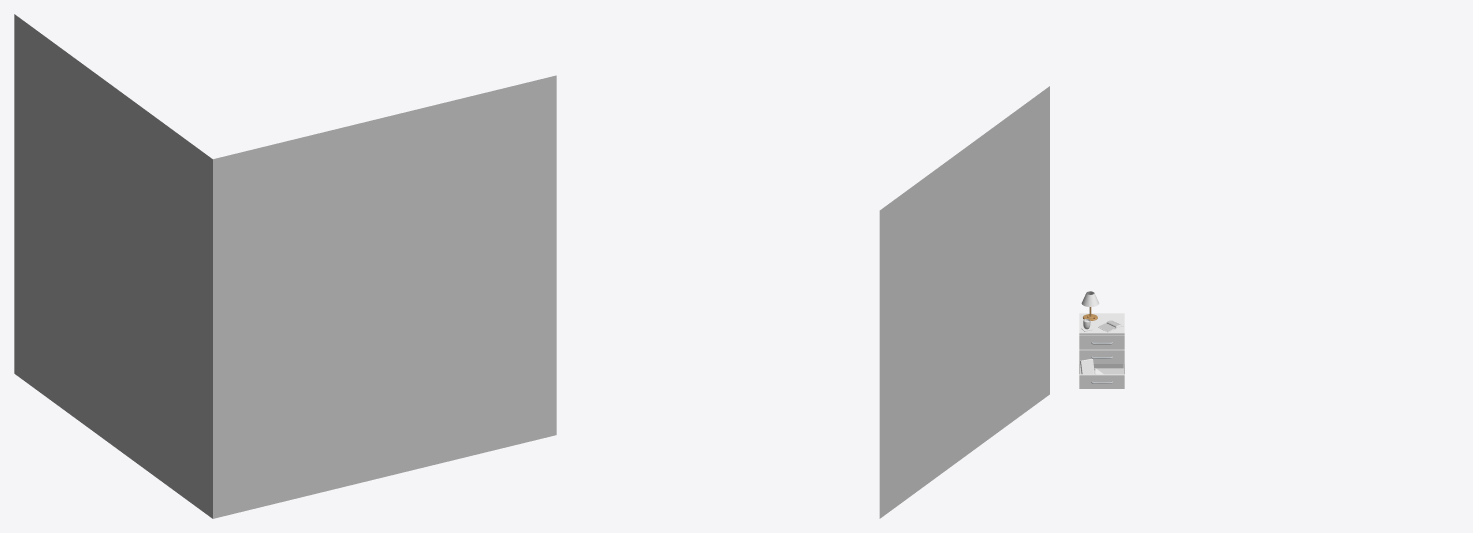
Rendered from BedsideDrawers(Blender).glb.
3 views of the same model, side by side, from view 1: azimuth 30°, elevation 25°; view 2: azimuth 150°, elevation 25°; view 3: azimuth 270°, elevation 25° (orthographic). The views are drawn at different scales.
Visible parts, largest first — view 1: Room; view 2: Room; view 3: Drawer Front, Top Slab.
Boxes of the visible parts, left/top/right/bottom form: Room: left=14, top=14, right=556, bottom=518; Room: left=879, top=86, right=1049, bottom=518; Drawer Front: left=1079, top=335, right=1124, bottom=388; Top Slab: left=1079, top=313, right=1124, bottom=335.
Bounding box in the file's own units: 49.93 × 49.93 × 49.93.
Materials: 14 (2 with a texture image).
